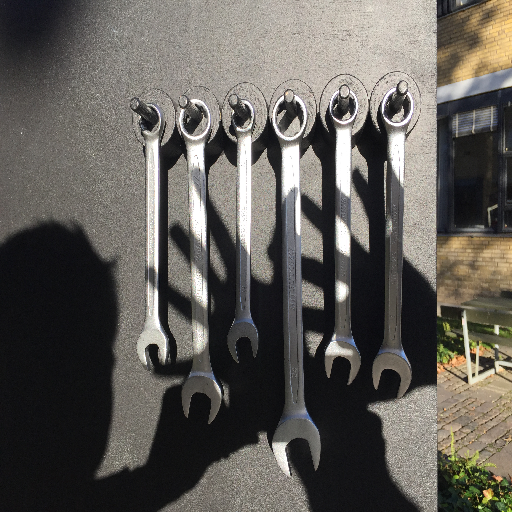bottom: (271, 411, 323, 478), (180, 371, 223, 426), (371, 348, 414, 400), (323, 335, 362, 387), (226, 317, 260, 365), (135, 325, 170, 371)
top: (270, 94, 308, 144), (176, 97, 214, 144), (378, 87, 415, 130), (327, 88, 360, 128), (136, 101, 167, 141), (228, 97, 256, 136)
